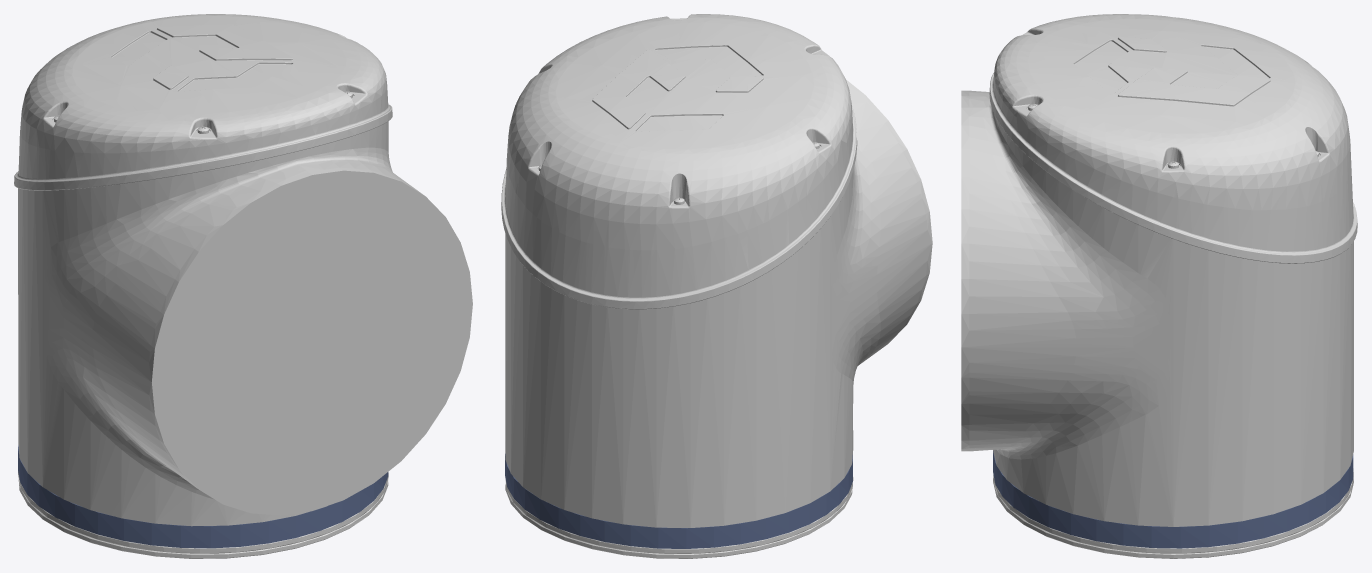
File: shoulder.dae
The picture shows the model from 3 angles, left to right: view 1: azimuth 30°, elevation 25°; view 2: azimuth 150°, elevation 25°; view 3: azimuth 270°, elevation 25°; orthographic projection. The views are drawn at different scales.
Visible parts, largest first — view 1: cs620_link1_part1, cs620_link1_part2; view 2: cs620_link1_part1, cs620_link1_part2; view 3: cs620_link1_part1, cs620_link1_part2.
Boxes of the visible parts, left/top/right/bottom form: cs620_link1_part1: left=14, top=14, right=472, bottom=558; cs620_link1_part2: left=18, top=445, right=388, bottom=548; cs620_link1_part1: left=501, top=14, right=932, bottom=558; cs620_link1_part2: left=505, top=454, right=852, bottom=548; cs620_link1_part1: left=961, top=14, right=1357, bottom=558; cs620_link1_part2: left=993, top=451, right=1353, bottom=548.
Size of the model in its own units: 0.1859 by 0.1998 by 0.2341.
